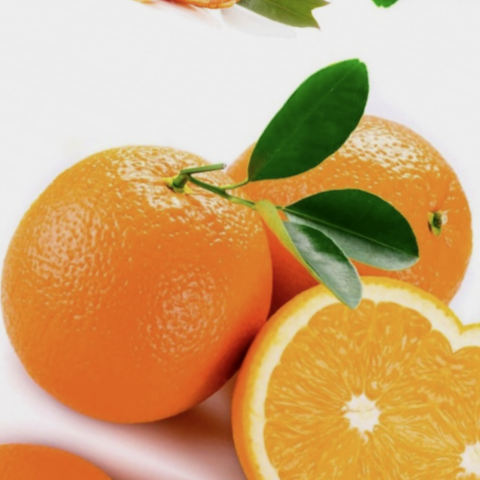orange: (0, 71, 341, 480), (146, 56, 480, 410)
